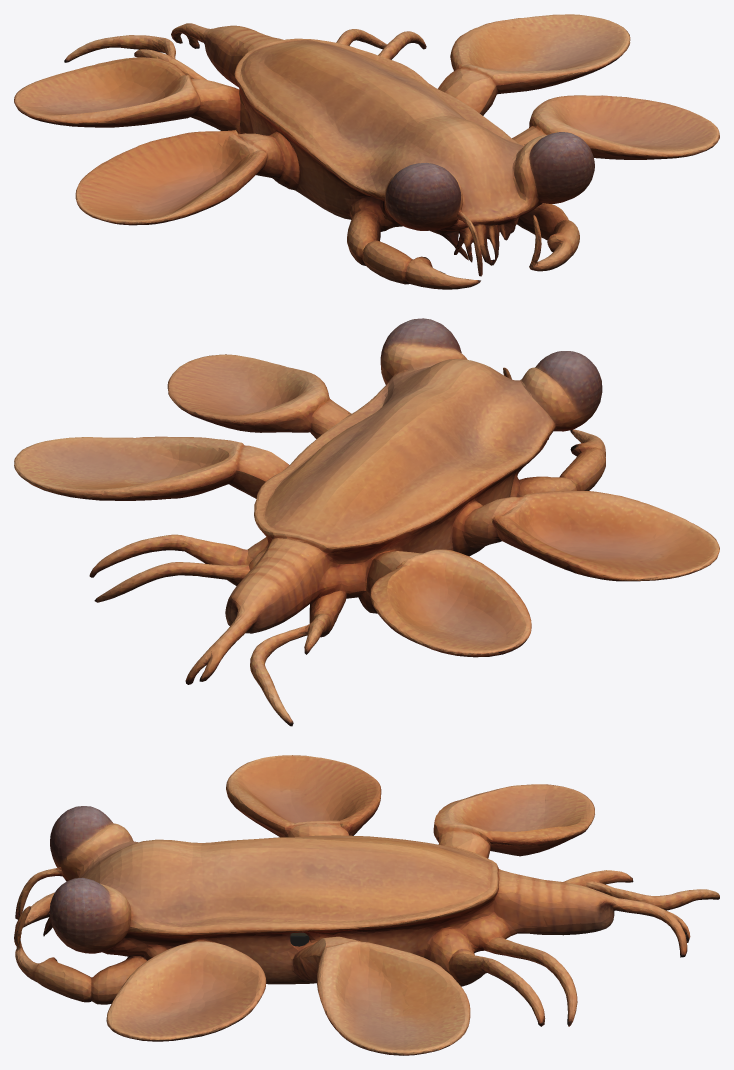
3 renders of one model, top to bottom at view 1: azimuth 30°, elevation 25°; view 2: azimuth 150°, elevation 25°; view 3: azimuth 270°, elevation 25°, orthographic. The views are drawn at different scales.
Parts seen in each view (by area): view 1: world; view 2: world; view 3: world.
Part boxes in pixels (x1,y1,x2,y2): world: [14, 14, 719, 289]; world: [14, 318, 719, 726]; world: [14, 755, 719, 1055].
Bounding box in the file's own units: 0.9915 × 0.1905 × 0.9917.
Materials: 1 (1 with a texture image).
